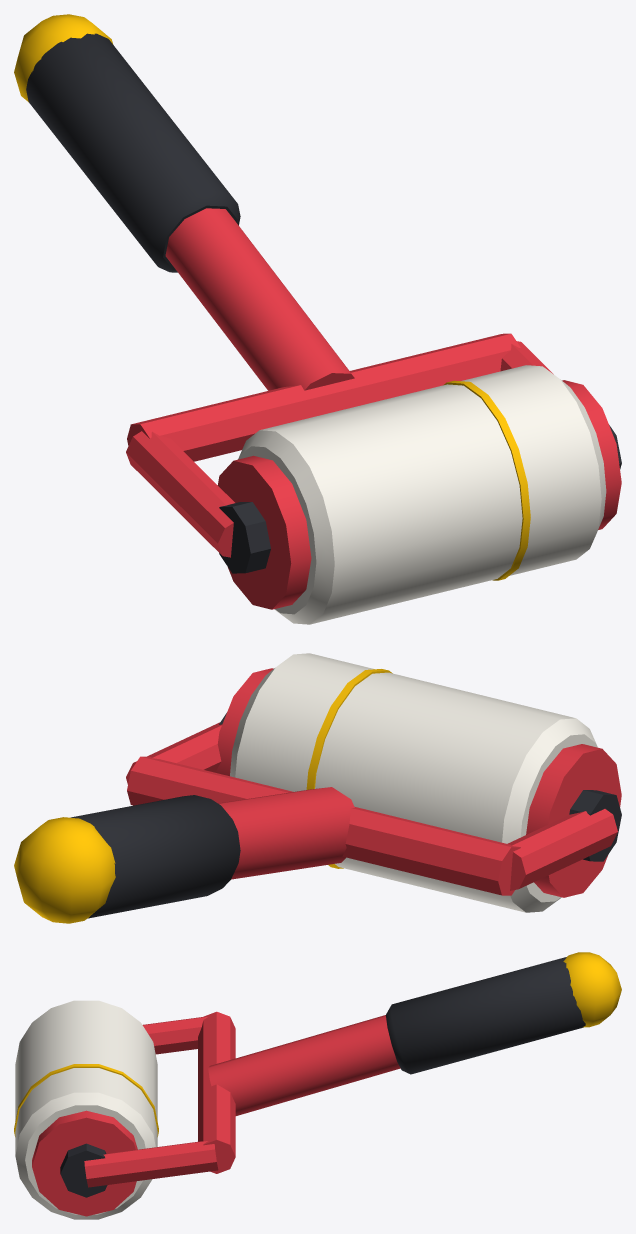
The model's file is lint_roller.glb.
The picture shows the model from 3 angles, top to bottom: view 1: azimuth 30°, elevation 25°; view 2: azimuth 150°, elevation 25°; view 3: azimuth 270°, elevation 25°; orthographic projection. The views are drawn at different scales.
Visible parts, largest first — view 1: drum, body; view 2: drum, body; view 3: body, drum.
Boxes of the visible parts, x1,y1,x2,y2 form: drum: (217,365,621,624); body: (14,14,621,573); drum: (215,653,621,912); body: (14,713,621,923); body: (60,952,621,1197); drum: (14,1000,158,1219).
Size of the model in its own units: 13.8 by 10.21 by 25.66.
